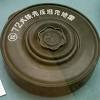car: (1, 2, 100, 99)
